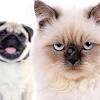cat: (32, 1, 100, 80)
dog: (1, 16, 34, 66)
